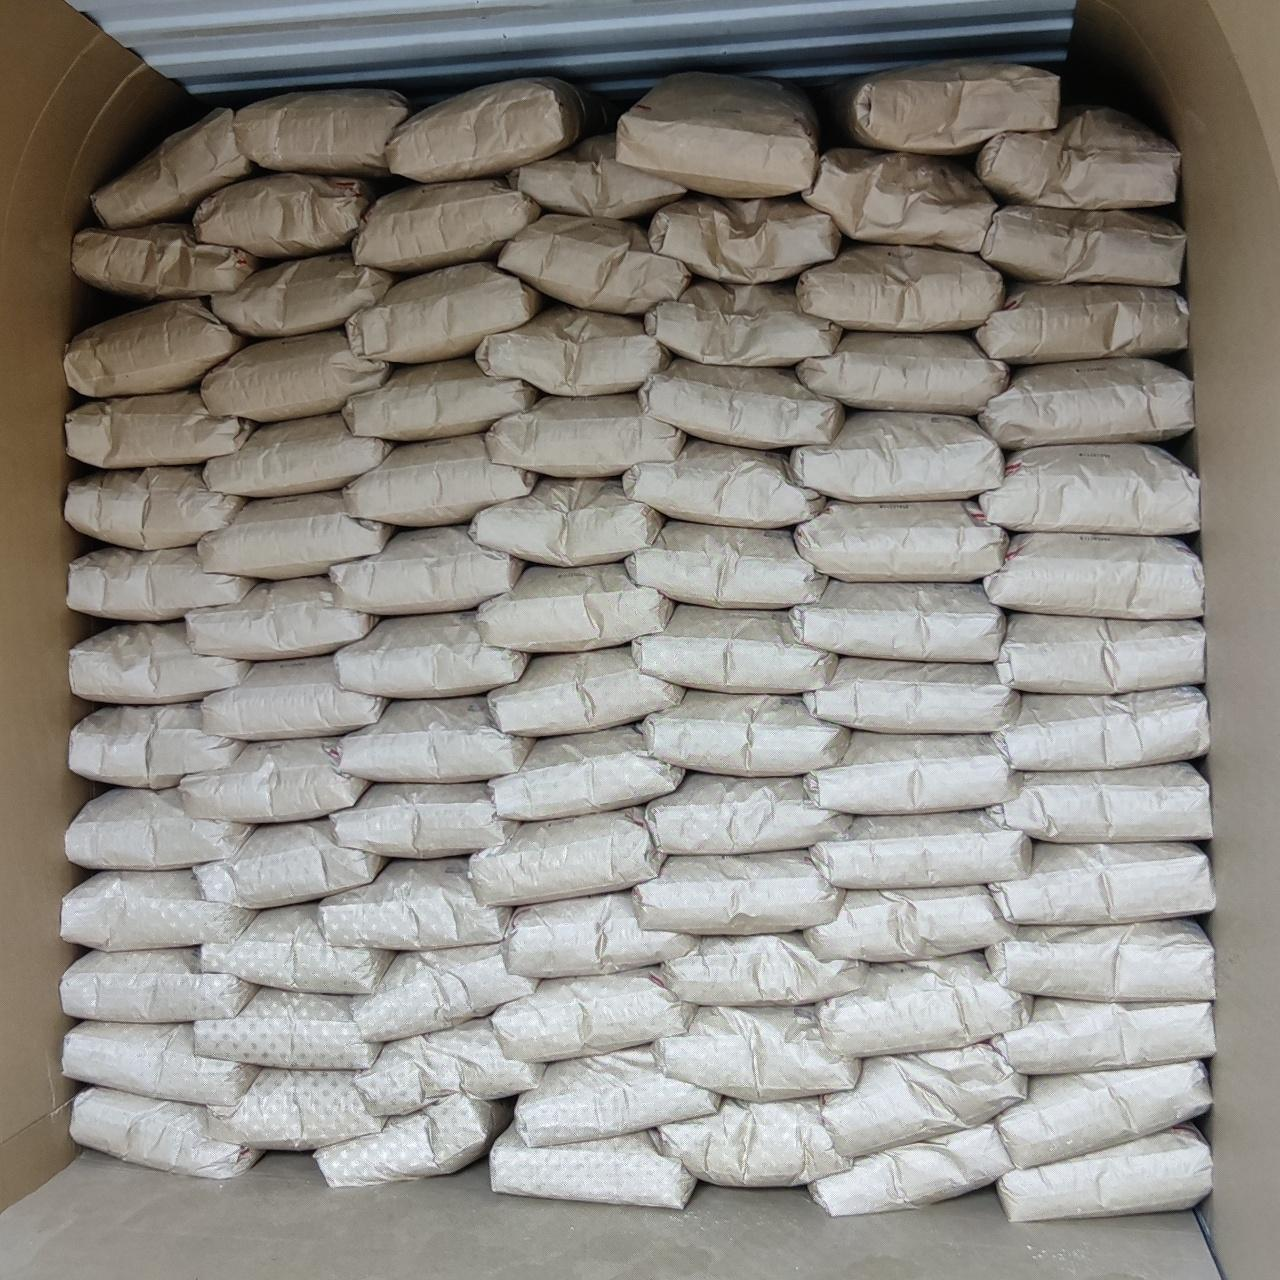sack: (618, 74, 818, 196), (822, 1042, 1026, 1156), (996, 1062, 1210, 1166), (820, 60, 1058, 152), (386, 78, 598, 180), (816, 954, 1030, 1054), (976, 106, 1178, 206), (998, 1126, 1212, 1220), (804, 148, 996, 252), (346, 262, 544, 360), (980, 446, 1198, 534), (514, 1048, 718, 1142), (790, 412, 1002, 500), (656, 1008, 858, 1100), (92, 112, 254, 226), (990, 842, 1214, 924), (490, 726, 684, 820), (980, 360, 1192, 446), (492, 970, 694, 1060), (470, 808, 662, 902), (354, 1018, 542, 1114), (500, 216, 690, 310), (810, 1124, 1008, 1214), (986, 920, 1214, 998), (344, 434, 536, 526), (640, 690, 848, 774), (66, 300, 248, 396), (984, 534, 1202, 614), (634, 606, 836, 692), (640, 360, 842, 446), (478, 304, 670, 394), (354, 944, 536, 1038), (320, 858, 510, 948), (316, 1096, 510, 1184), (798, 332, 1006, 414), (634, 850, 842, 932), (624, 440, 822, 526), (202, 330, 390, 420), (332, 526, 524, 614), (478, 564, 670, 652), (490, 646, 682, 734), (988, 764, 1210, 840), (654, 1098, 850, 1184), (788, 582, 1004, 660), (354, 180, 540, 270), (810, 810, 1030, 886), (626, 522, 824, 606), (798, 244, 1000, 326), (202, 904, 390, 992), (196, 818, 384, 906), (794, 502, 1006, 580), (994, 688, 1206, 766), (998, 614, 1204, 694), (808, 732, 1014, 812), (976, 284, 1186, 362), (644, 774, 848, 854), (994, 998, 1214, 1072), (72, 1088, 260, 1174), (488, 394, 684, 476), (982, 206, 1182, 286), (472, 480, 662, 564), (648, 196, 838, 280), (490, 1128, 694, 1206), (194, 174, 382, 258), (646, 282, 838, 364), (338, 698, 530, 780), (804, 658, 1016, 732), (180, 738, 366, 822), (200, 492, 390, 574), (336, 612, 526, 694), (62, 870, 254, 950), (64, 1022, 256, 1102), (508, 892, 694, 974), (344, 358, 534, 438), (202, 656, 386, 738), (212, 252, 396, 334), (188, 578, 376, 658), (806, 886, 1014, 958), (206, 414, 392, 494), (508, 134, 684, 218), (234, 90, 408, 174), (66, 466, 244, 548), (68, 788, 250, 868), (196, 990, 382, 1068), (658, 934, 864, 1004), (66, 390, 254, 466), (210, 1068, 382, 1150), (70, 622, 246, 702), (74, 224, 258, 300), (70, 704, 240, 786), (62, 948, 254, 1020), (68, 546, 254, 620), (332, 784, 512, 854)
